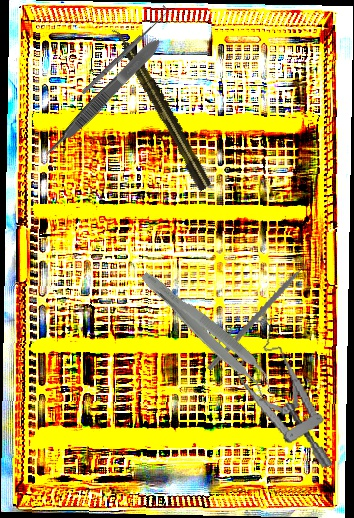Chopper: (206, 243, 324, 387)
Handpiece: (109, 23, 214, 193)
Hook Surgical: (77, 4, 172, 97)
Speculum: (214, 311, 333, 482)
Tissue Forceps: (132, 265, 280, 401), (39, 35, 165, 161)
